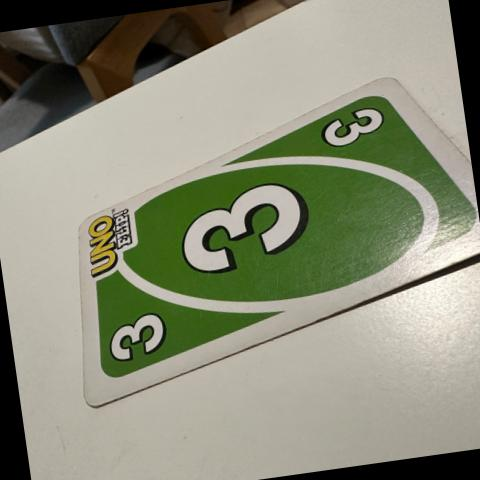lgreen-3: (84, 292, 200, 376)
